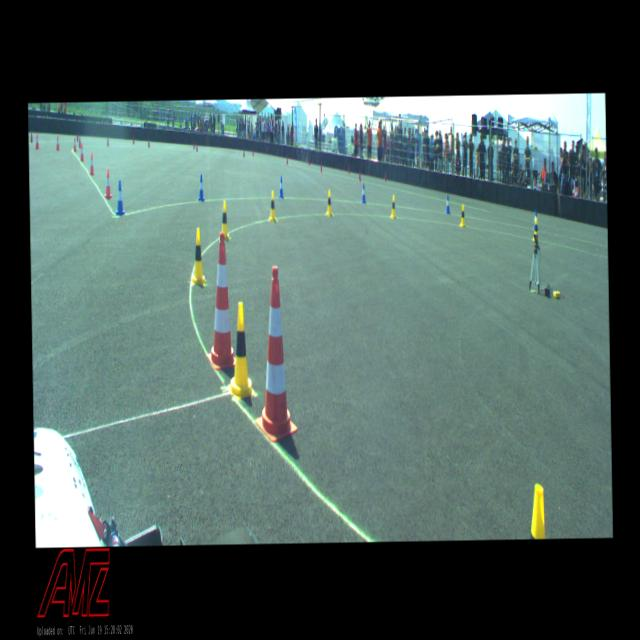blue_cone: (115, 179, 125, 215), (197, 173, 204, 200), (532, 209, 538, 229), (278, 175, 283, 198), (444, 195, 450, 214), (361, 182, 366, 202)
large_orange_cone: (252, 264, 297, 443), (204, 231, 235, 372)
orange_cone: (104, 168, 112, 198), (88, 152, 95, 175), (79, 143, 84, 160), (55, 135, 60, 150), (35, 134, 39, 148), (73, 138, 77, 150)
yellow_cone: (226, 301, 255, 400), (190, 228, 206, 284), (218, 199, 229, 238), (268, 190, 276, 222), (326, 188, 332, 216), (390, 194, 396, 218), (532, 217, 538, 240), (459, 204, 465, 226)
